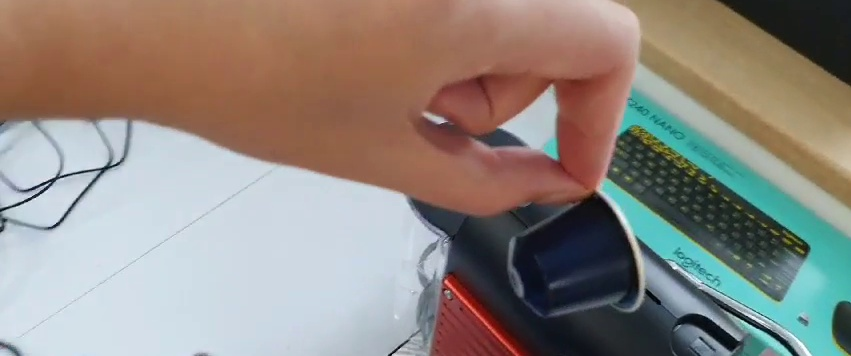capsule_1: (505, 189, 643, 319)
